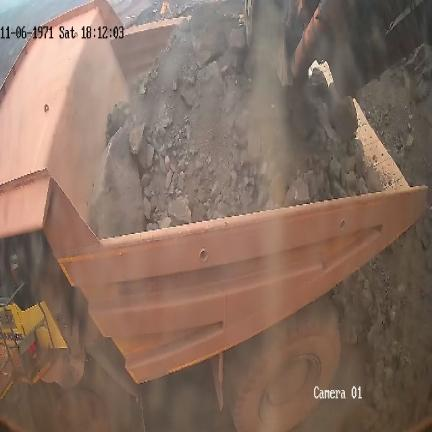pile: (87, 17, 387, 239), (332, 203, 432, 430), (359, 44, 430, 184)
